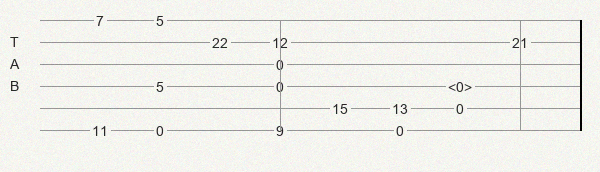0: (156, 123, 168, 137), (276, 79, 288, 93), (276, 57, 288, 71), (396, 123, 408, 137), (456, 101, 468, 115)
11: (92, 123, 112, 137)
12: (272, 35, 292, 49)
13: (392, 101, 412, 115)
15: (332, 101, 352, 115)
21: (512, 35, 532, 49)
22: (212, 35, 232, 49)
5: (156, 13, 168, 27), (156, 79, 168, 93)
7: (96, 13, 108, 27)
9: (276, 123, 288, 137)
harmonic: (448, 79, 476, 93)
